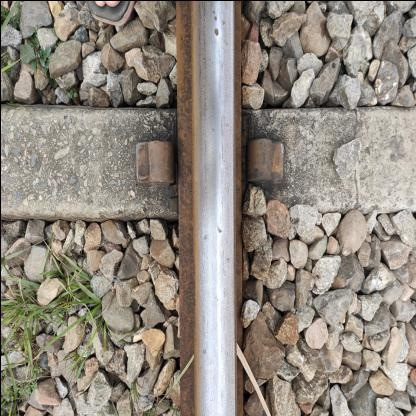Defective: (228, 110, 297, 202)
